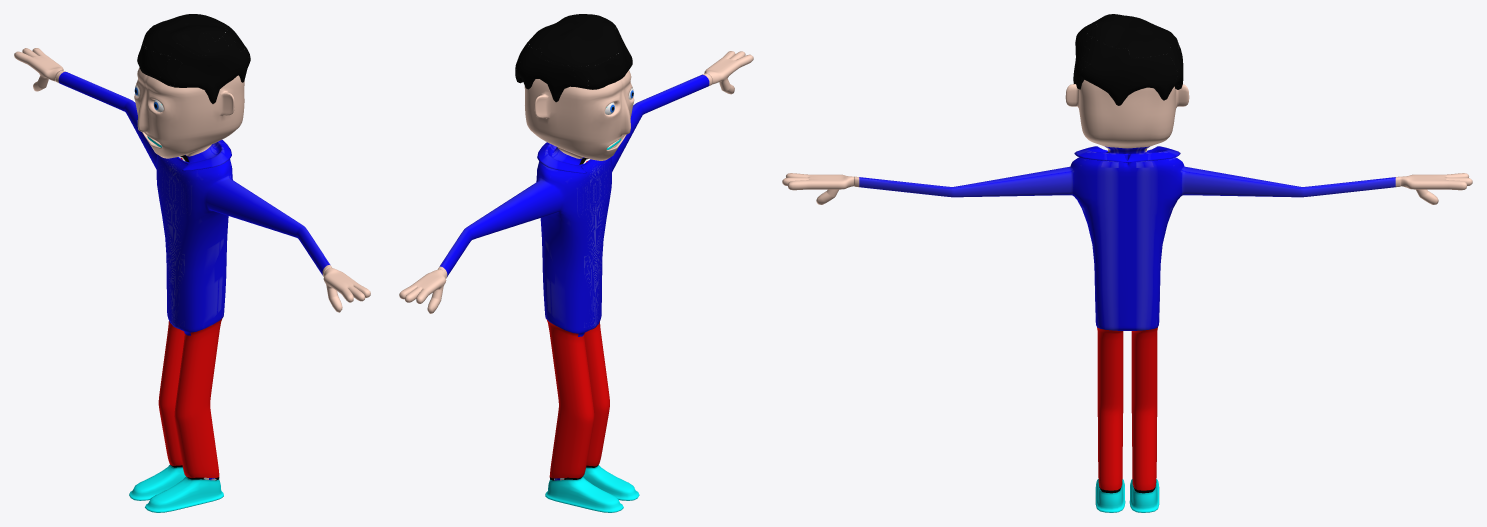
Rendered from cartooncharacter.fbx.
3 renders of one model, left to right at view 1: azimuth 30°, elevation 25°; view 2: azimuth 150°, elevation 25°; view 3: azimuth 270°, elevation 25°, orthographic. The views are drawn at different scales.
Visible parts, largest first — view 1: Cube, Sphere.001; view 2: Cube, Sphere.001; view 3: Cube, Sphere.001.
Boxes of the visible parts, x1,y1,x2,y2 form: Cube: [14, 48, 370, 512]; Sphere.001: [137, 14, 250, 103]; Cube: [399, 51, 753, 512]; Sphere.001: [515, 14, 632, 102]; Cube: [782, 80, 1472, 512]; Sphere.001: [1073, 14, 1183, 105].
Size of the model in its own units: 2.41 by 10.81 by 14.13.
1 material, 1 textured.
